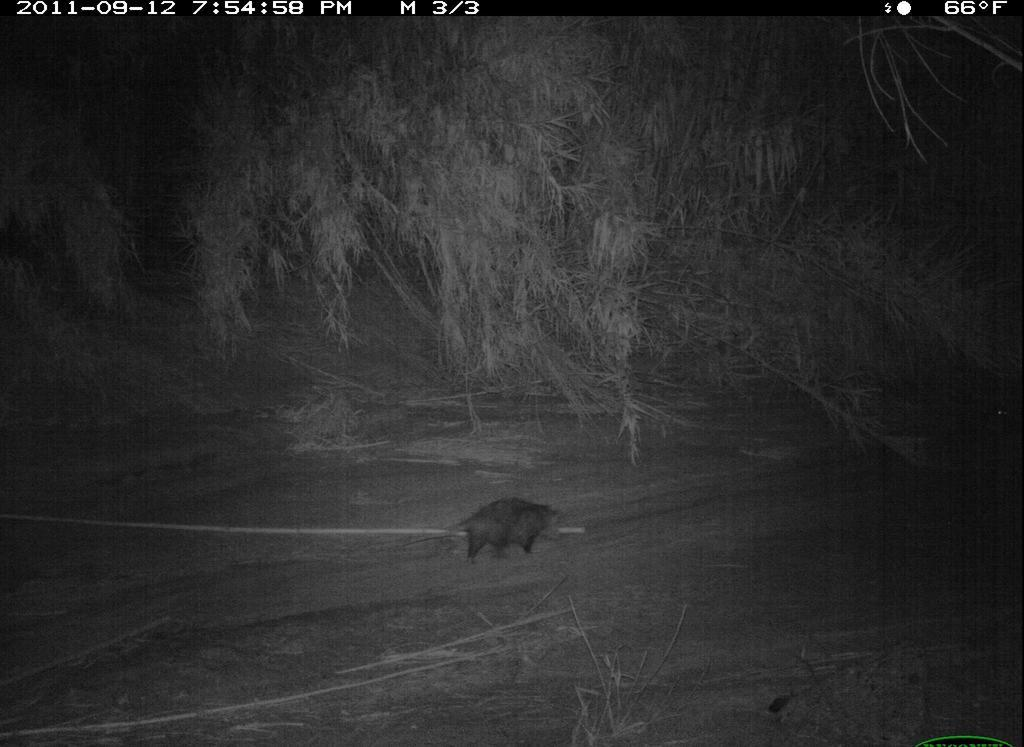opossum: (410, 488, 577, 587)
